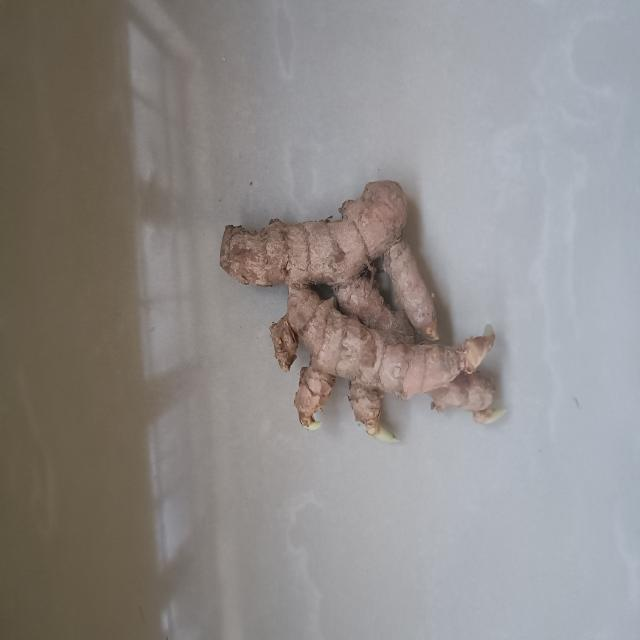ginger: (214, 179, 502, 436)
